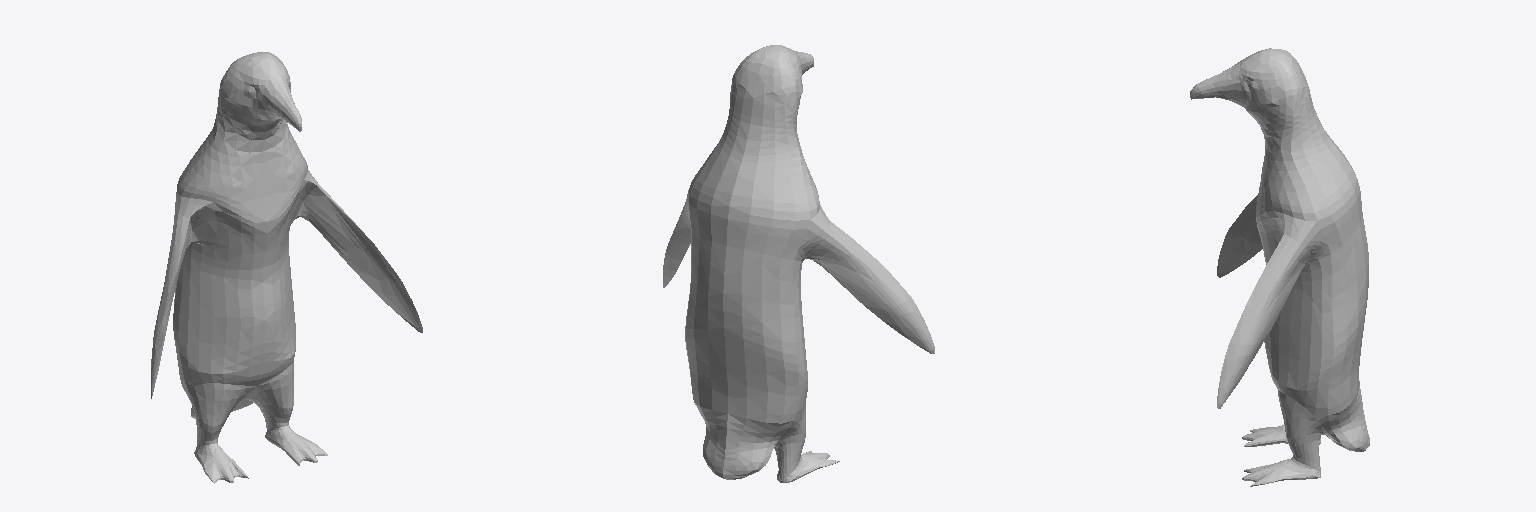
Rendered from PENGUIN.OBJ.
The picture shows the model from 3 angles: view 1: azimuth 30°, elevation 25°; view 2: azimuth 150°, elevation 25°; view 3: azimuth 270°, elevation 25°; orthographic projection.
Bounding box in the file's own units: 0.3689 × 0.5308 × 0.2129.